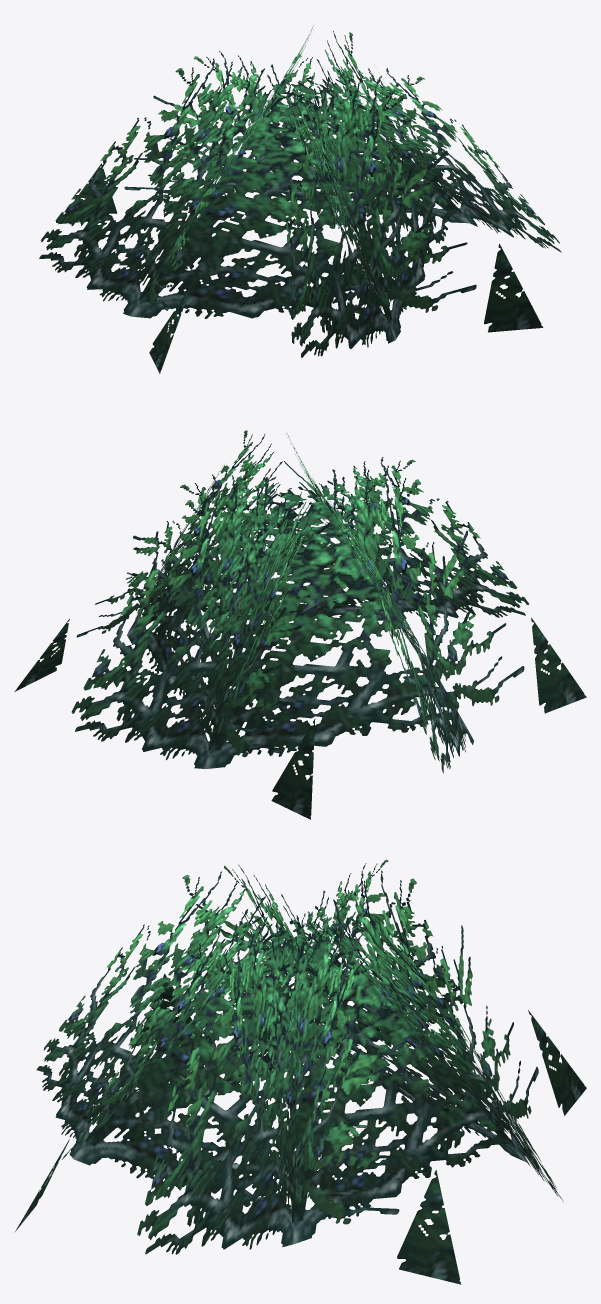
File: silverpinebush01.obj
3 views of the same model, one above another, from view 1: azimuth 30°, elevation 25°; view 2: azimuth 150°, elevation 25°; view 3: azimuth 270°, elevation 25° (orthographic). The views are drawn at different scales.
Visible parts, largest first — view 1: SILVERPINEBUSH010; view 2: SILVERPINEBUSH010; view 3: SILVERPINEBUSH010.
Part boxes in pixels (x1=…): SILVERPINEBUSH010: x1=39, y1=25, x2=561, y2=373; SILVERPINEBUSH010: x1=14, y1=430, x2=586, y2=819; SILVERPINEBUSH010: x1=14, y1=859, x2=586, y2=1284.
Size of the model in its own units: 6.3 by 3.03 by 5.93.
Materials: 1 (1 with a texture image).
